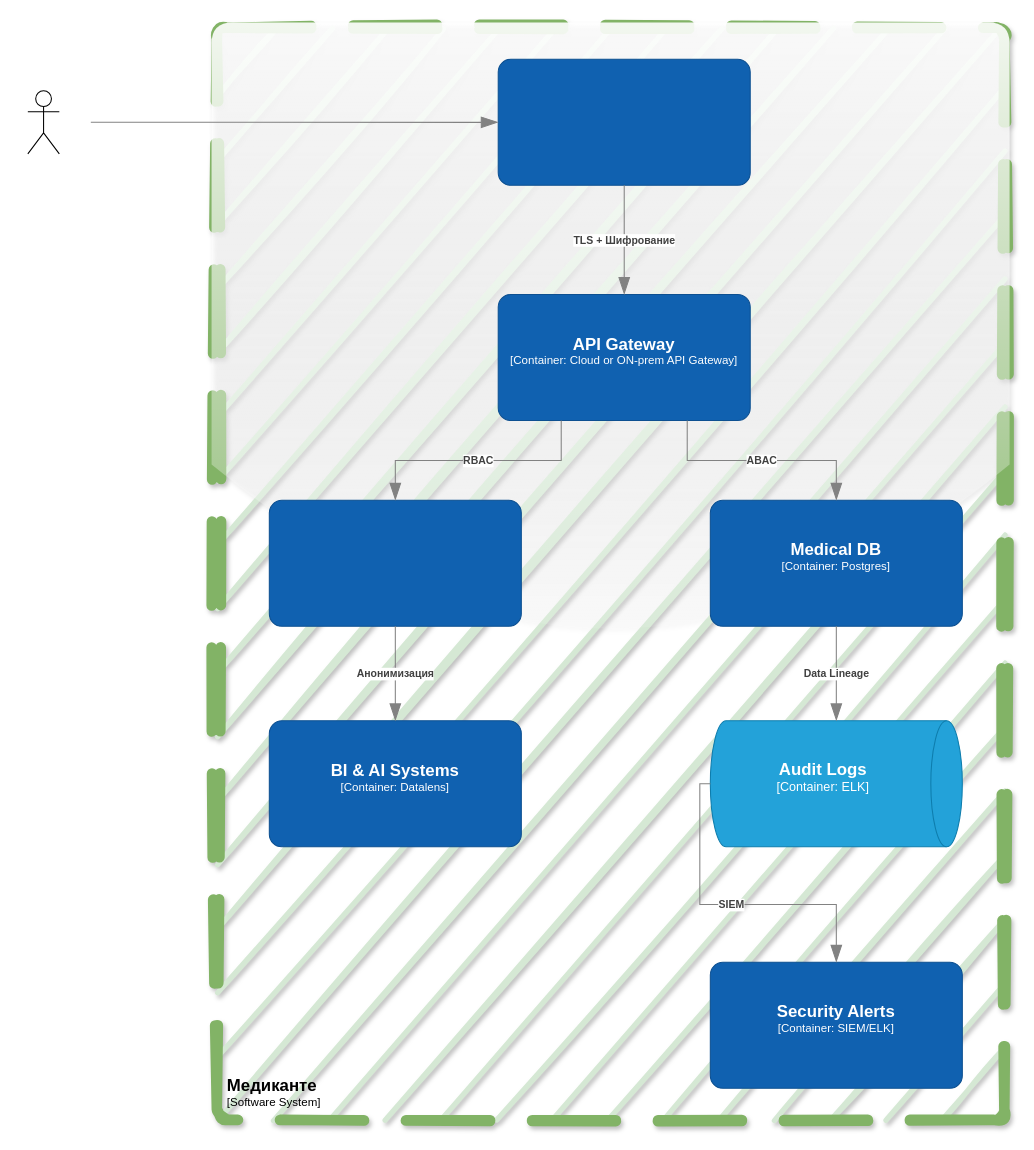
Some shapes in this 1034 by 1150 pixel diagram are drawn without their labels. Here are the shapes that lost their labels. From the top down, the centre of each, then its label:
the point at 43,122: Клиент Пациент
the point at 623,121: Приложение [Container: Flutter]
the point at 394,562: PII Vault [Container: ]
